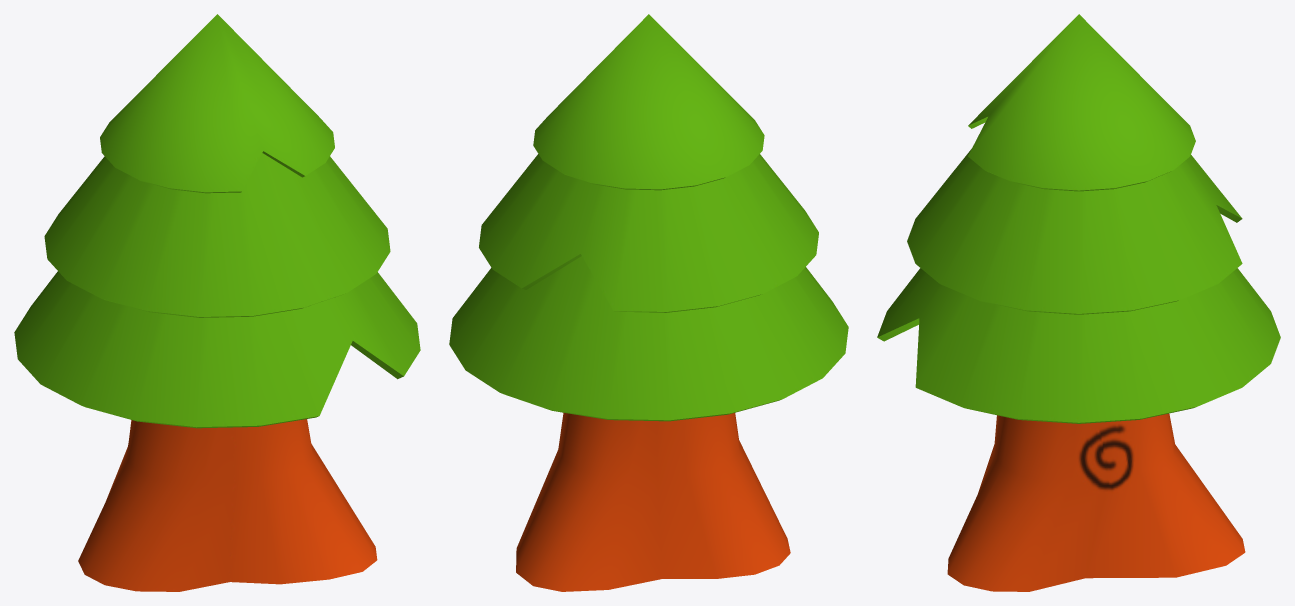
The model's file is low_poly_tree2.glb.
The picture shows the model from 3 angles, left to right: view 1: azimuth 30°, elevation 25°; view 2: azimuth 150°, elevation 25°; view 3: azimuth 270°, elevation 25°; orthographic projection.
Parts seen in each view (by area): view 1: Object_2; view 2: Object_2; view 3: Object_2.
Boxes of the visible parts, x1=… form: Object_2: x1=14, y1=14, x2=420, y2=591; Object_2: x1=449, y1=14, x2=848, y2=591; Object_2: x1=877, y1=14, x2=1280, y2=591.
Size of the model in its own units: 5.15 by 7.35 by 5.15.
1 material, 1 textured.
